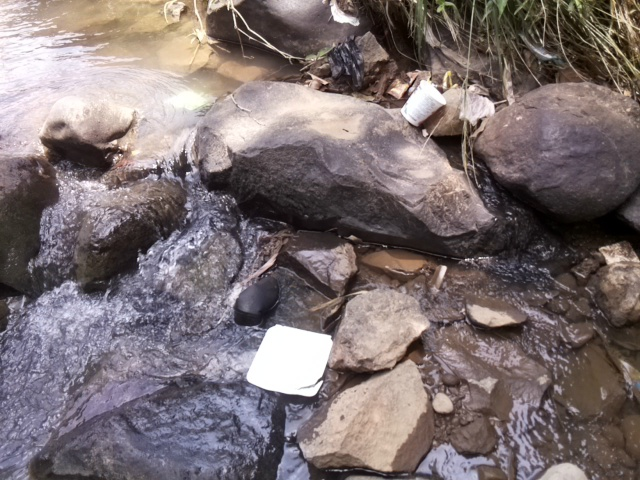Sampah_Styrofoam: (244, 322, 334, 399), (398, 76, 449, 129)
